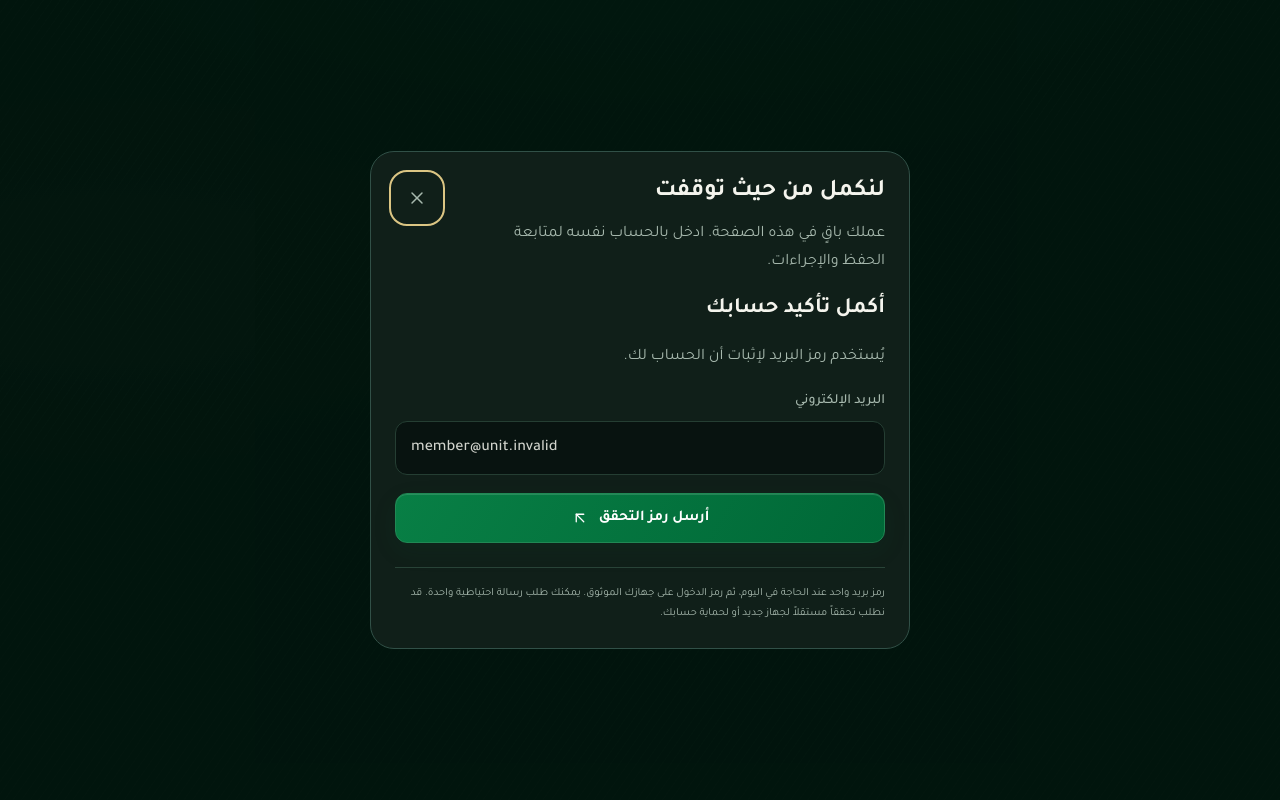
Test: Accessible notification inbox and in-place return › requires email proof for a sensitive return and never treats a permission rejection as a session expiry
Submit the form, box [395,389,885,544]
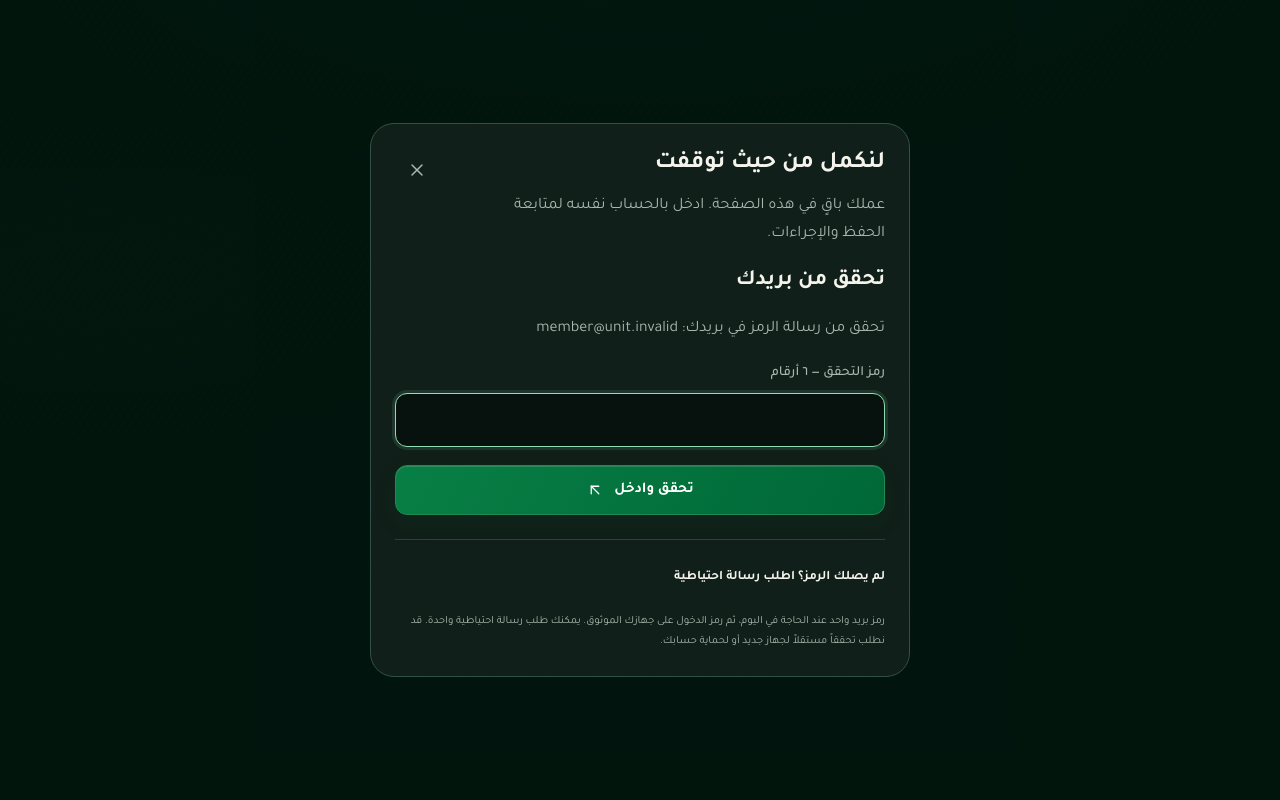
Click the button named "إغلاق والعودة إلى عملي".
click(417, 170)  # box [395,148,439,192]
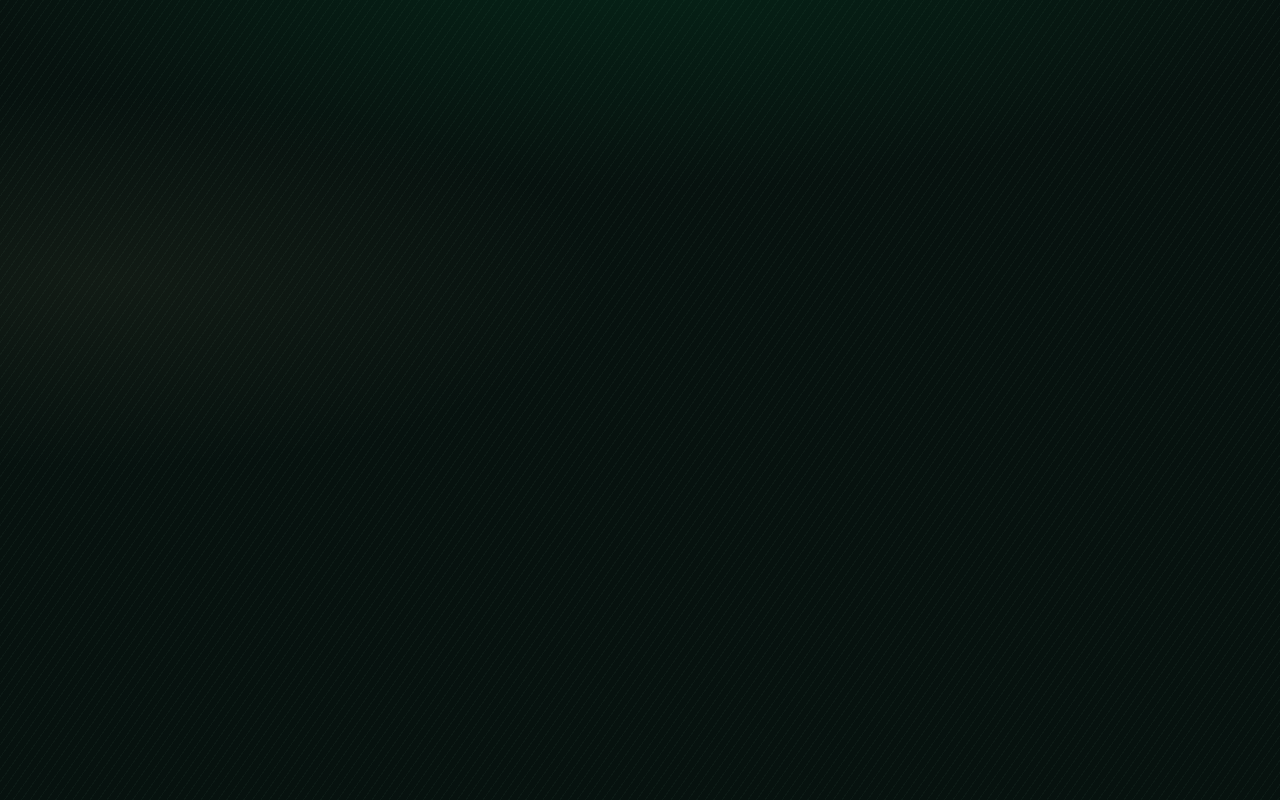
Result: the dialog is gone
